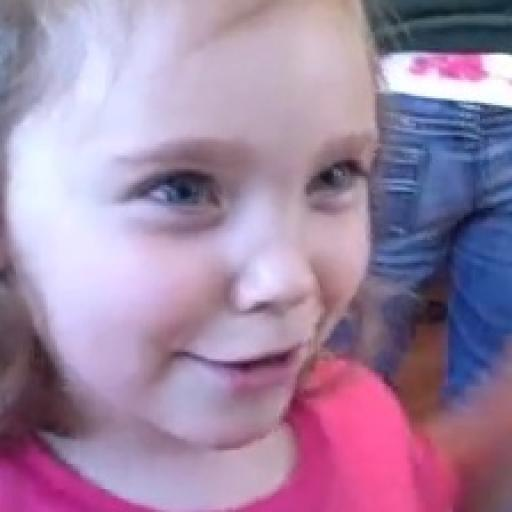Autism: (0, 0, 389, 512)
